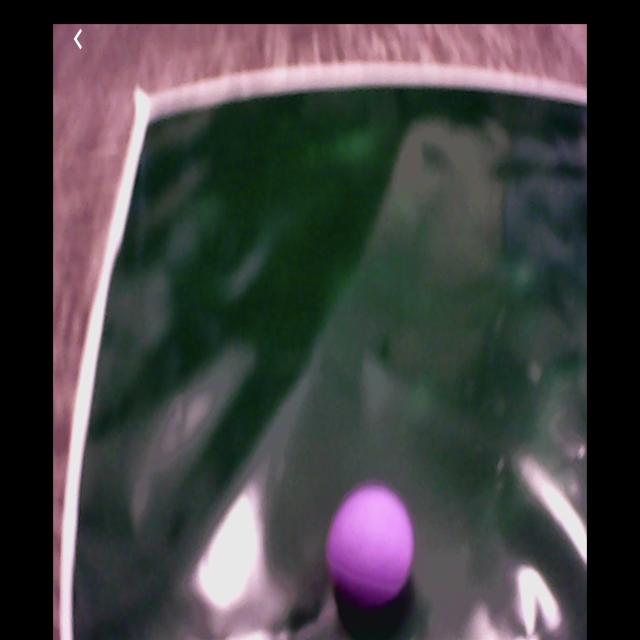ball: (330, 483, 414, 604)
